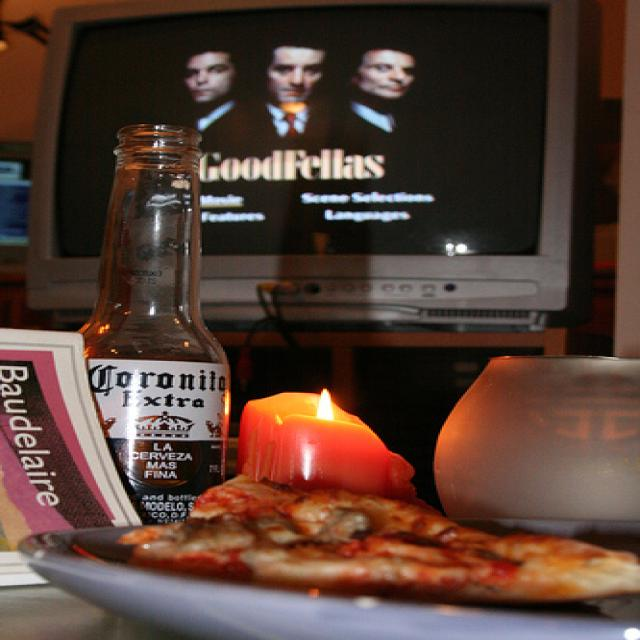bottle: (76, 124, 232, 526)
person: (345, 46, 414, 133), (262, 46, 324, 139), (184, 50, 236, 132)
tvmonitor: (11, 1, 603, 335)
